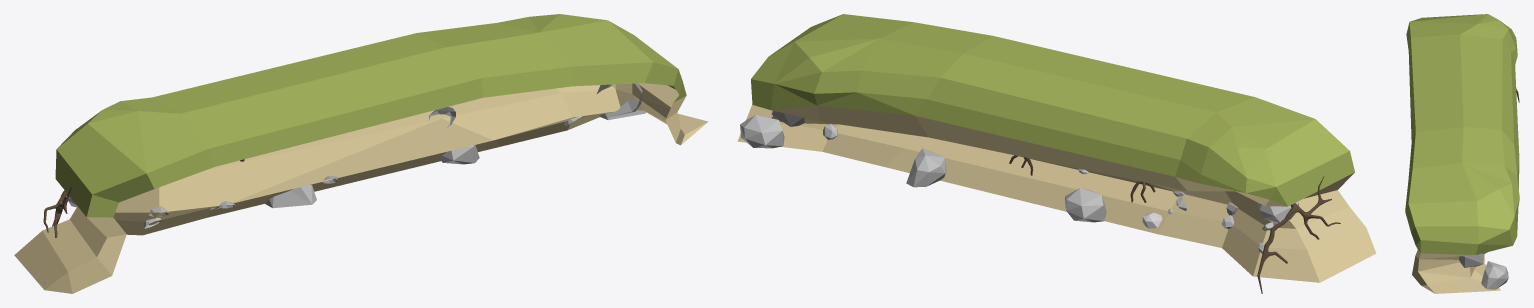
Rendered from EA03_Environment_RiverStraight_02a.glb.
The picture shows the model from 3 angles, left to right: view 1: azimuth 30°, elevation 25°; view 2: azimuth 150°, elevation 25°; view 3: azimuth 270°, elevation 25°; orthographic projection. The views are drawn at different scales.
Parts seen in each view (by area): view 1: EA03_Environment_RiverStraight_02a; view 2: EA03_Environment_RiverStraight_02a; view 3: EA03_Environment_RiverStraight_02a.
Part boxes in pixels (box(x1,y1,x2,y2)): EA03_Environment_RiverStraight_02a: box(14, 14, 708, 293); EA03_Environment_RiverStraight_02a: box(737, 14, 1376, 293); EA03_Environment_RiverStraight_02a: box(1405, 14, 1519, 293).
Size of the model in its own units: 49.6 by 10.13 by 10.54.
Materials: 1 (1 with a texture image).
